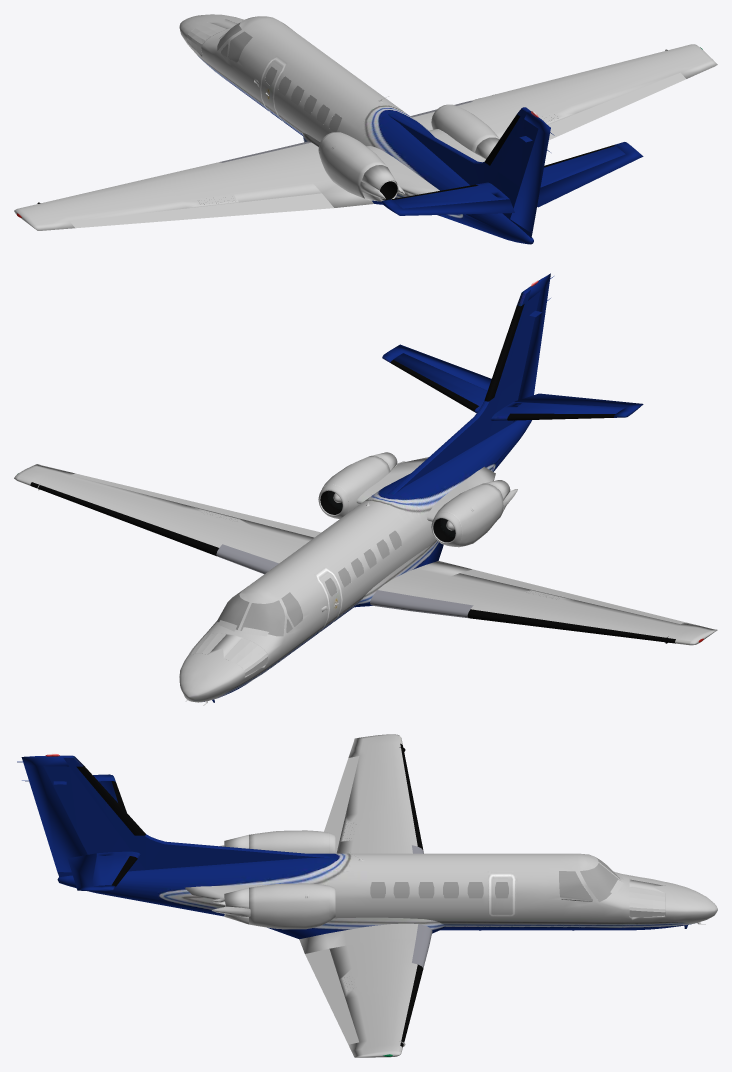
Rendered from citation.glb.
3 renders of one model, top to bottom at view 1: azimuth 30°, elevation 25°; view 2: azimuth 150°, elevation 25°; view 3: azimuth 270°, elevation 25°, orthographic. The views are drawn at different scales.
Visible parts, largest first — view 1: Aft_BaggageDoor, Door_glass, Door_handle; view 2: Aft_BaggageDoor, Door_glass, Door_handle; view 3: Aft_BaggageDoor, Door_glass, Door_handle.
Boxes of the visible parts, x1,y1,x2,y2 form: Aft_BaggageDoor: (14, 14, 717, 244); Door_glass: (217, 22, 341, 132); Door_handle: (265, 92, 499, 201); Aft_BaggageDoor: (14, 273, 717, 702); Door_glass: (217, 530, 401, 636); Door_handle: (186, 452, 517, 705); Aft_BaggageDoor: (17, 734, 717, 1057); Door_glass: (370, 857, 620, 902); Door_handle: (212, 833, 705, 924).
Bounding box in the file's own units: 15.62 × 4.06 × 14.48.
4 materials, 2 textured.
